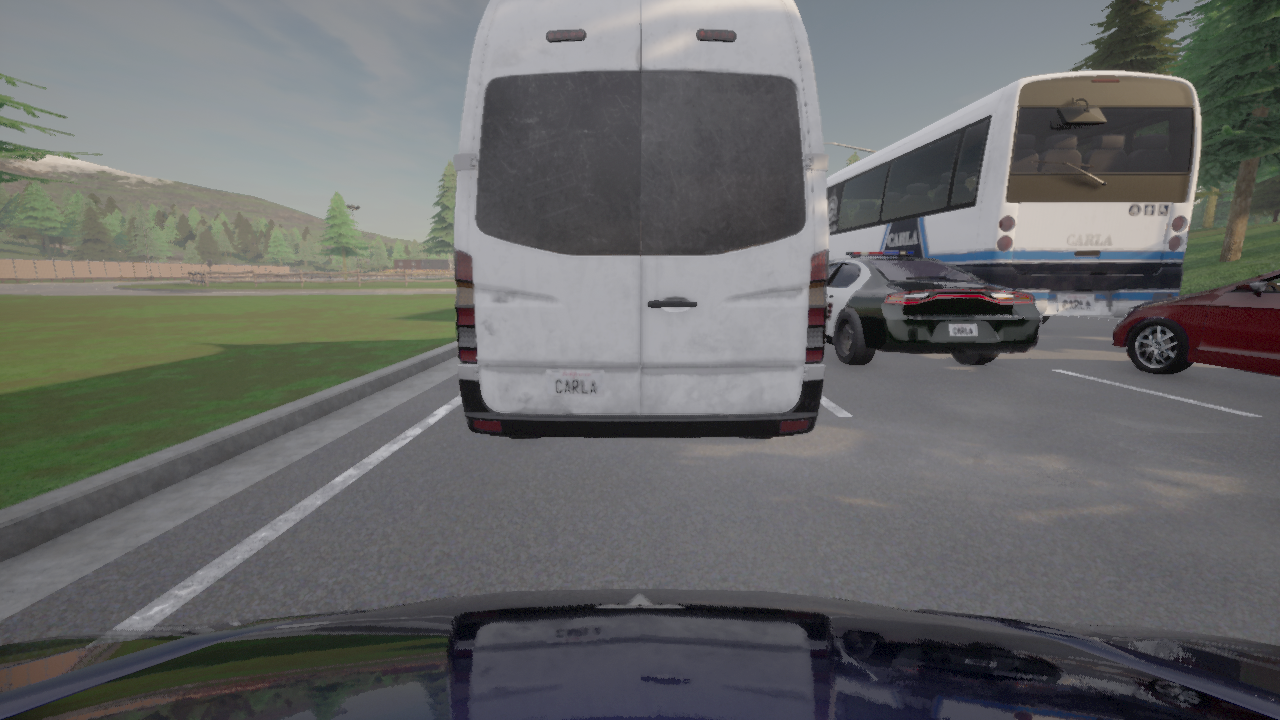cyclist: (0, 588, 1279, 719), (454, 0, 828, 438), (826, 70, 1200, 325), (826, 251, 1042, 364), (1111, 270, 1279, 376)
